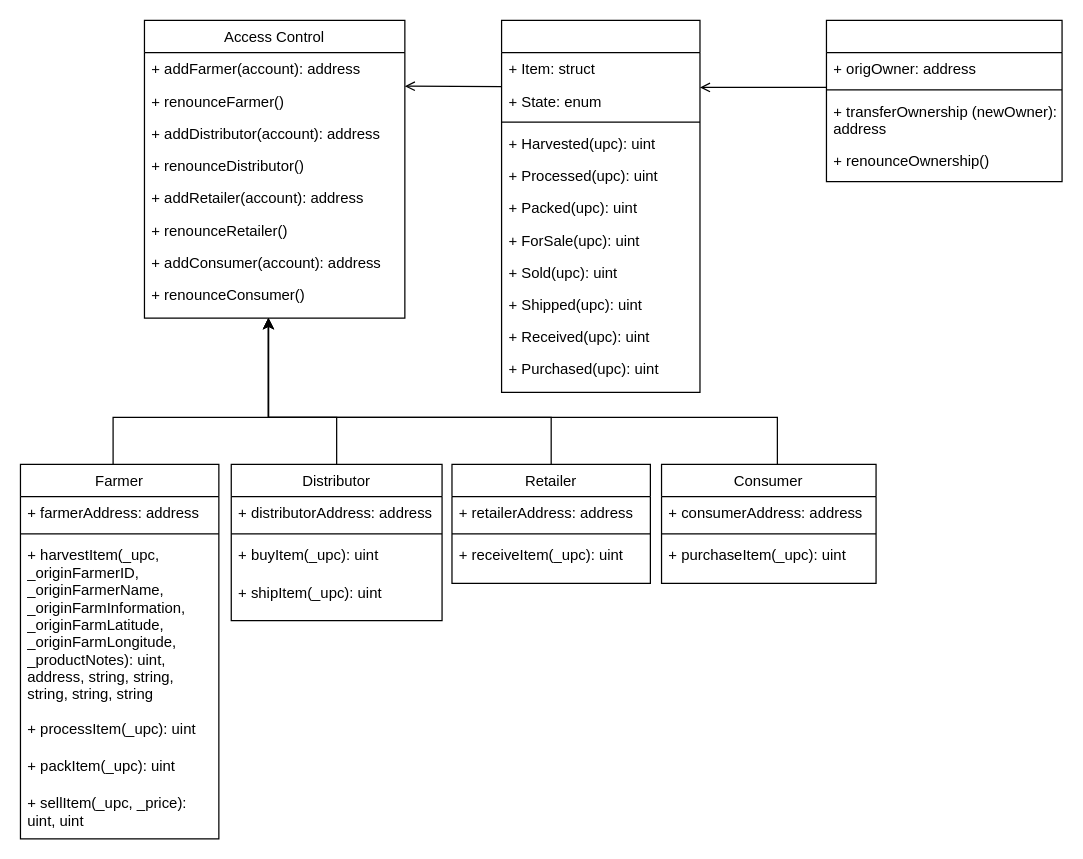
The diagram is 1083 pixels wide and 859 high, and some of its shapes have lost their labels. Each missing label, with the box of its shape:
Base: (500, 19, 700, 392)
Core: (825, 19, 1062, 182)
